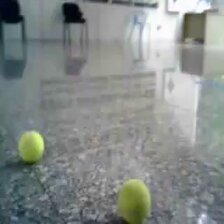tennis: (115, 179, 152, 222), (18, 128, 45, 163)
